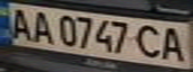0: (54, 11, 78, 47)
4: (90, 16, 115, 52)
7: (109, 19, 133, 54), (72, 15, 93, 49)
A: (3, 4, 36, 42), (157, 25, 187, 63), (27, 8, 57, 44)
C: (133, 22, 163, 61)
